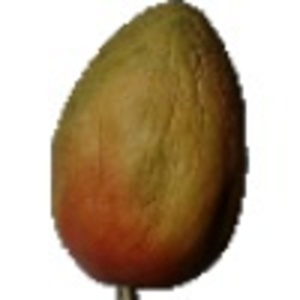mamão: (42, 4, 257, 299)
